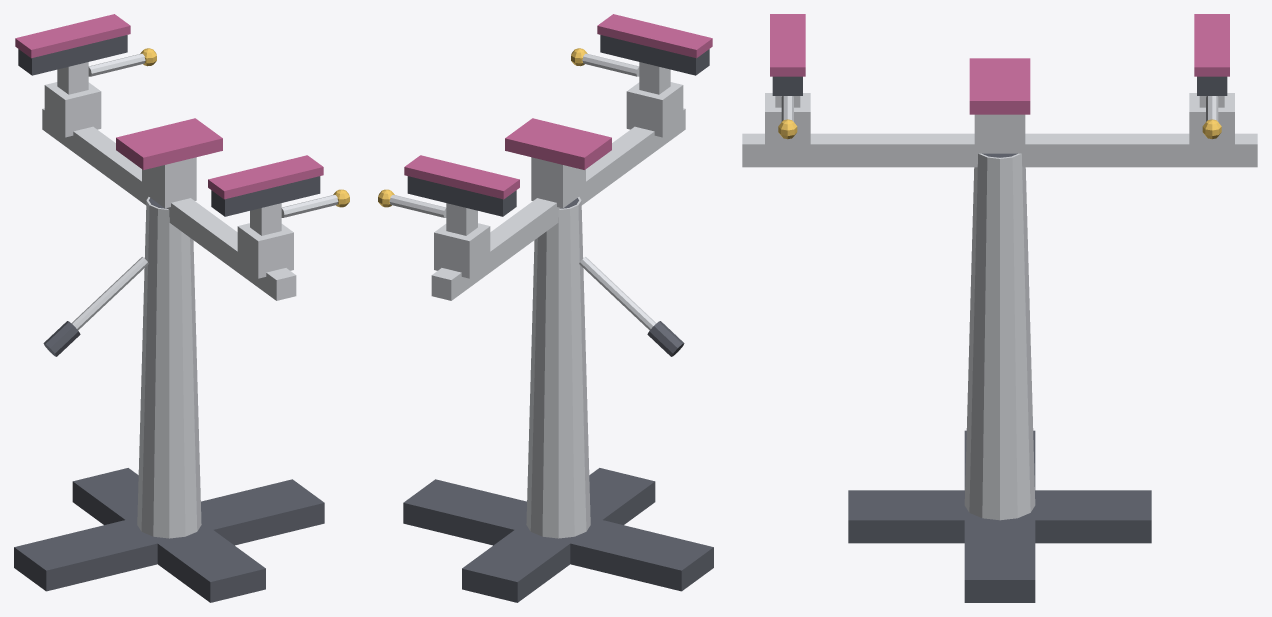
File: snowboard-gear-and-freestyle-riders-tuning-vice-1097eb84__27185.glb
3 renders of one model, left to right at view 1: azimuth 30°, elevation 25°; view 2: azimuth 150°, elevation 25°; view 3: azimuth 270°, elevation 25°, orthographic. The views are drawn at different scales.
Parts seen in each view (by area): view 1: tuning-vice; view 2: tuning-vice; view 3: tuning-vice.
Part boxes in pixels (box(x1,y1,x2,y2)): tuning-vice: box(14, 14, 349, 602); tuning-vice: box(378, 14, 713, 602); tuning-vice: box(742, 14, 1257, 602).
Size of the model in its own units: 0.7 by 1.06 by 1.02.
